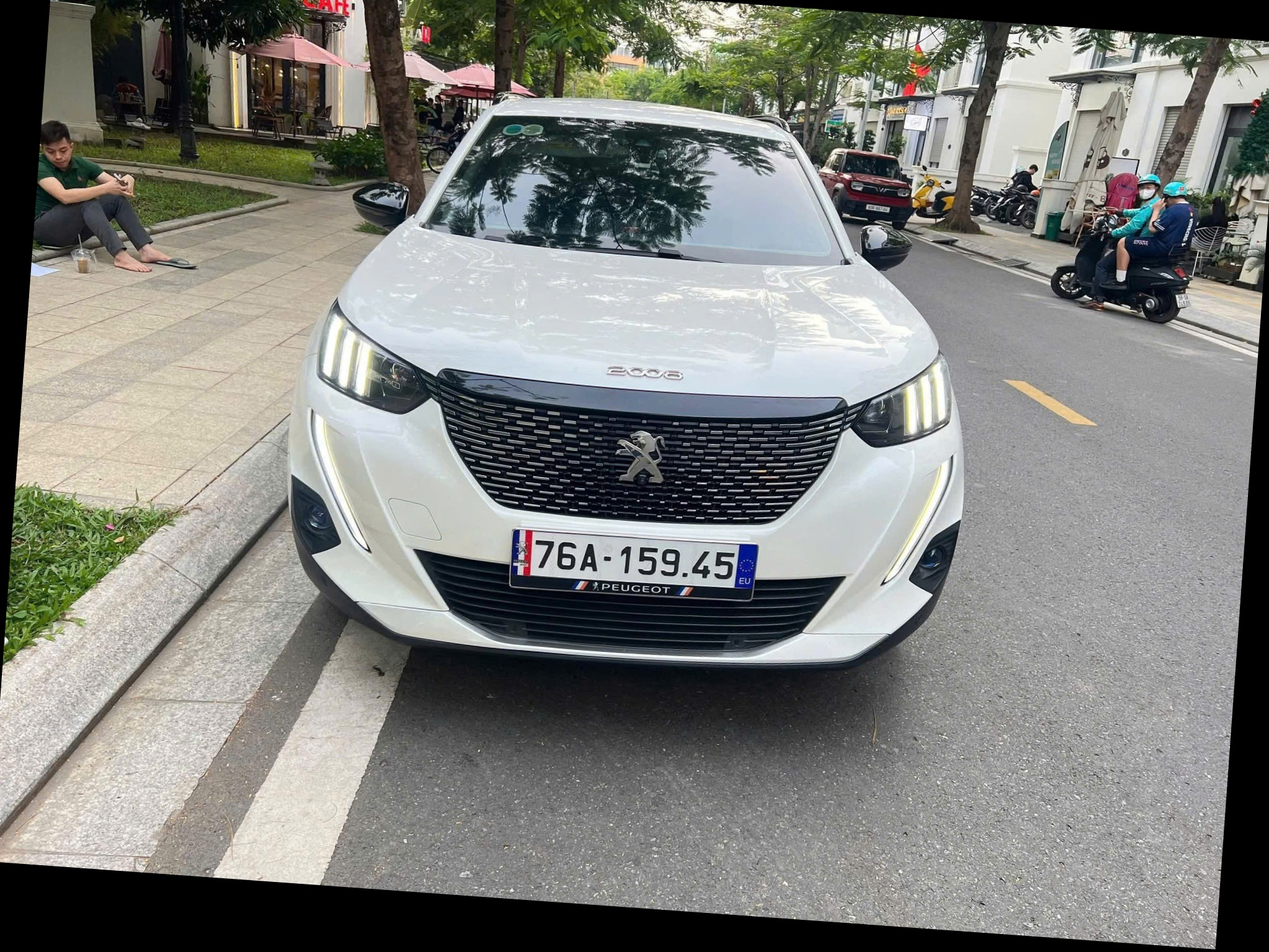Bien-so: (559, 548, 778, 604)
